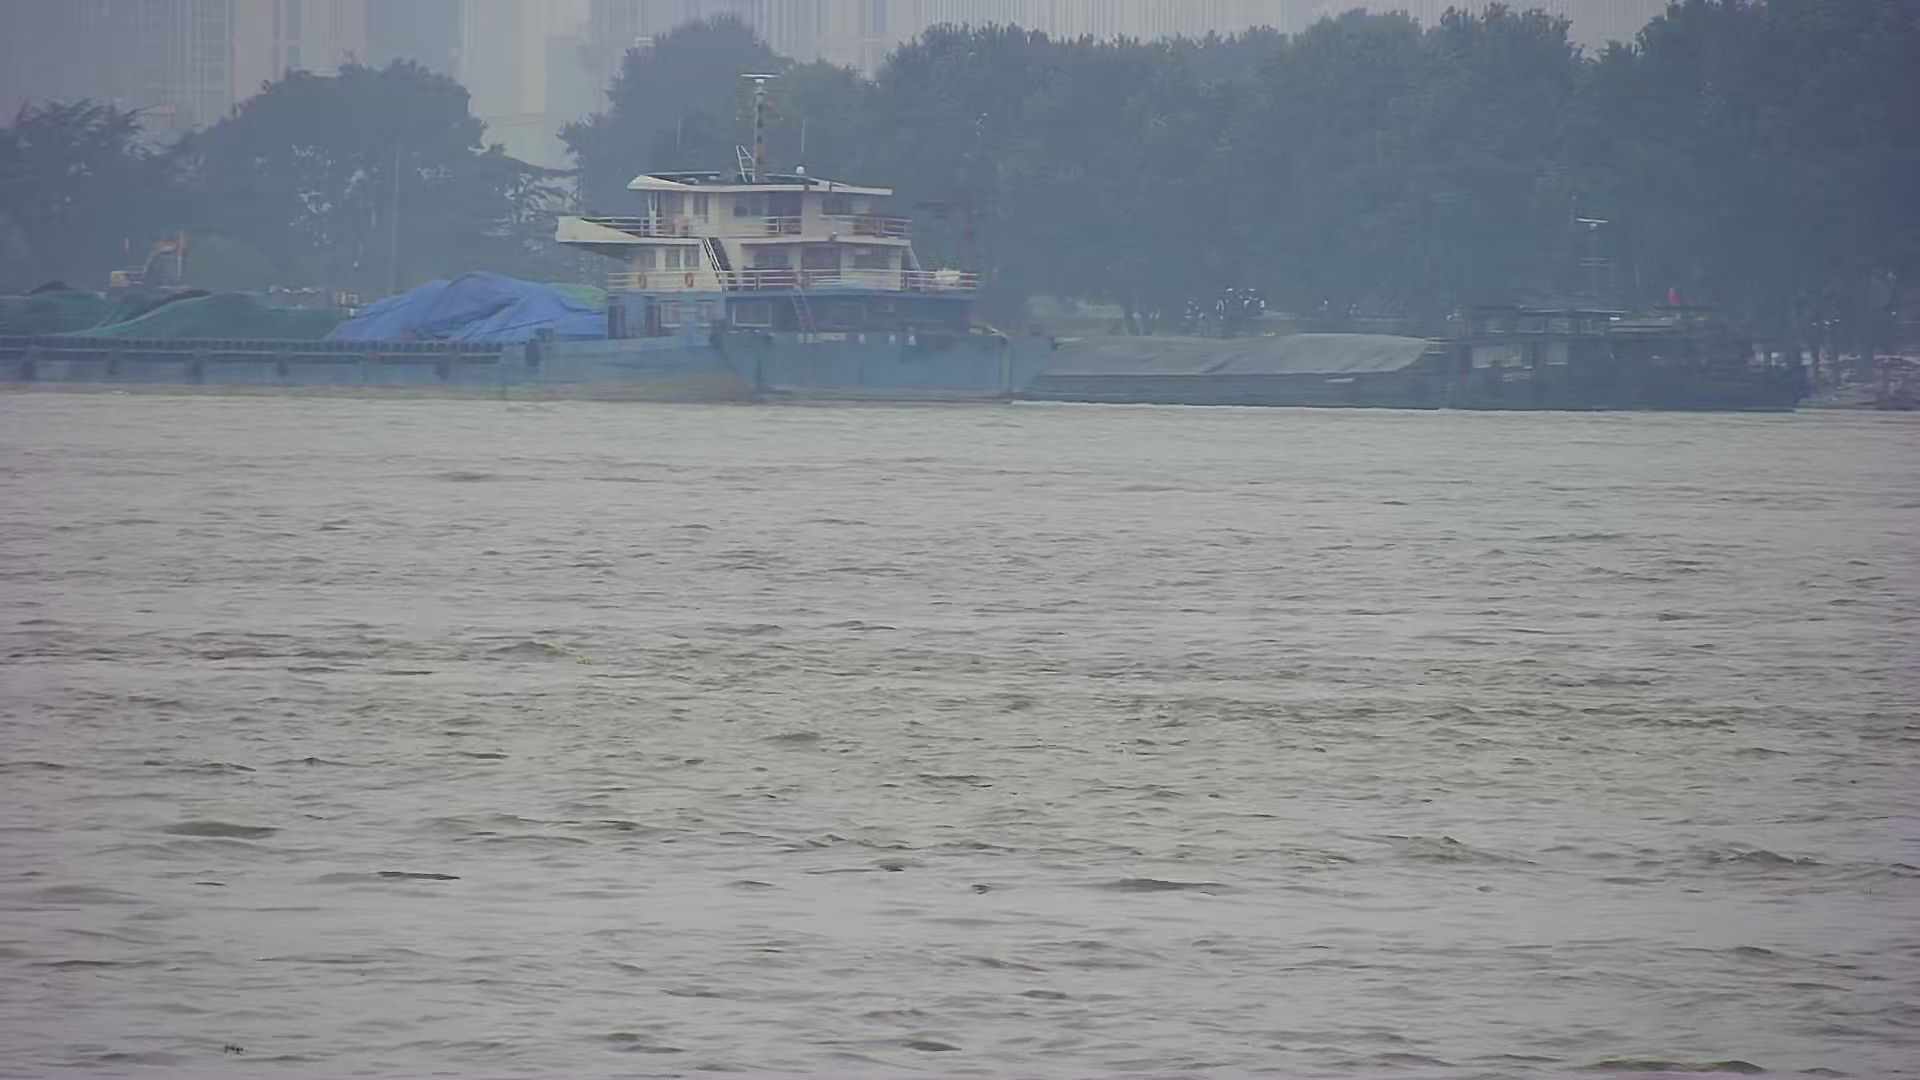ship: (8, 65, 1064, 404), (1018, 212, 1825, 414)
